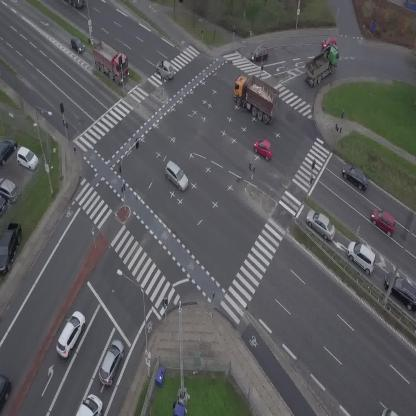car: (51, 308, 90, 359), (95, 337, 129, 388), (341, 237, 383, 276), (301, 205, 341, 244), (159, 160, 193, 192), (366, 205, 400, 237), (338, 161, 373, 192), (250, 135, 277, 162), (153, 57, 178, 81), (66, 34, 87, 56), (0, 376, 11, 410), (250, 46, 269, 61), (320, 36, 337, 48)
lorry: (224, 68, 287, 125), (83, 36, 138, 87), (298, 42, 348, 88), (76, 394, 102, 416)
